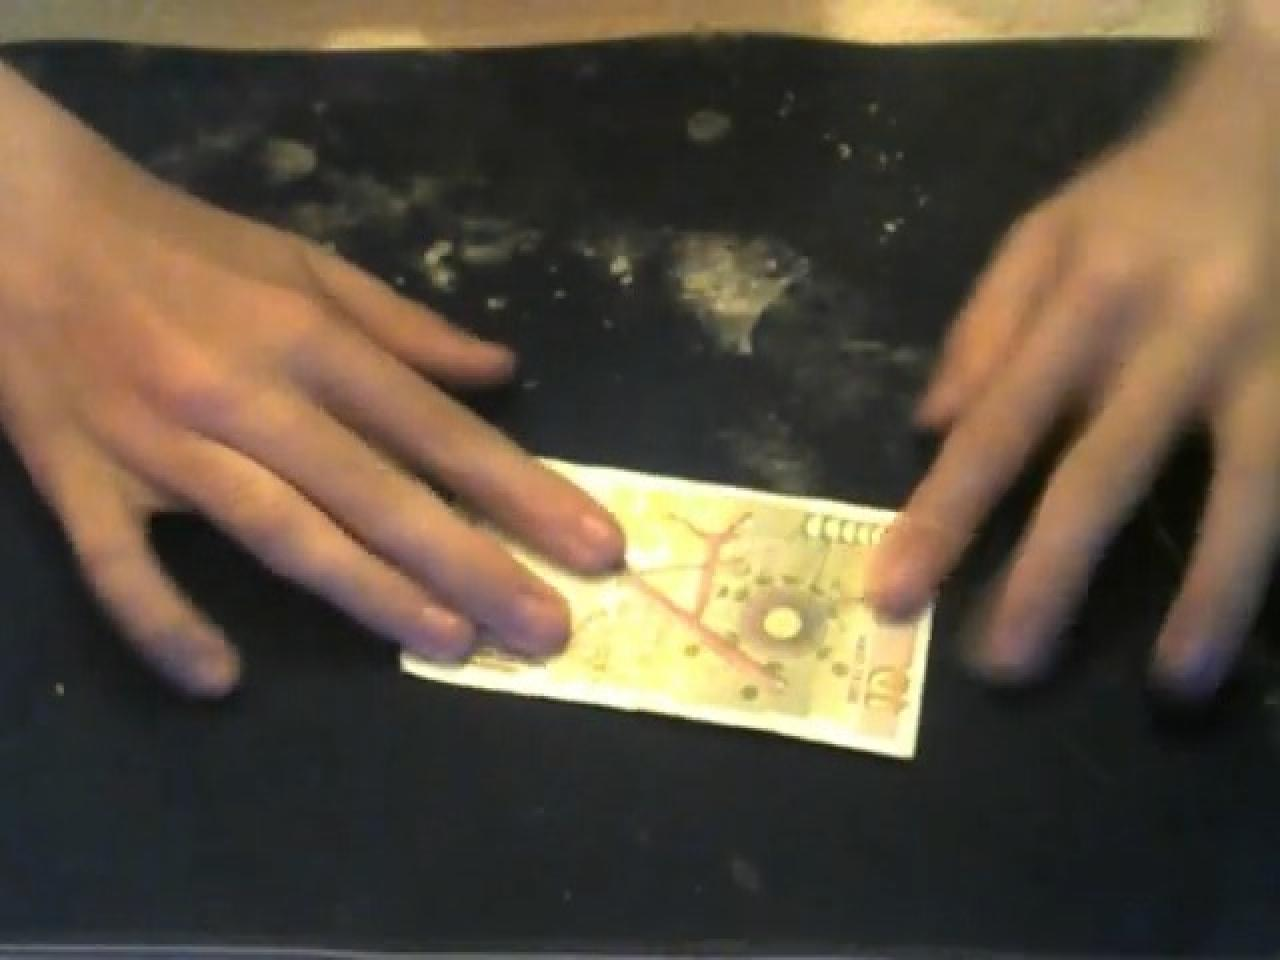10leva: (400, 461, 932, 760)
